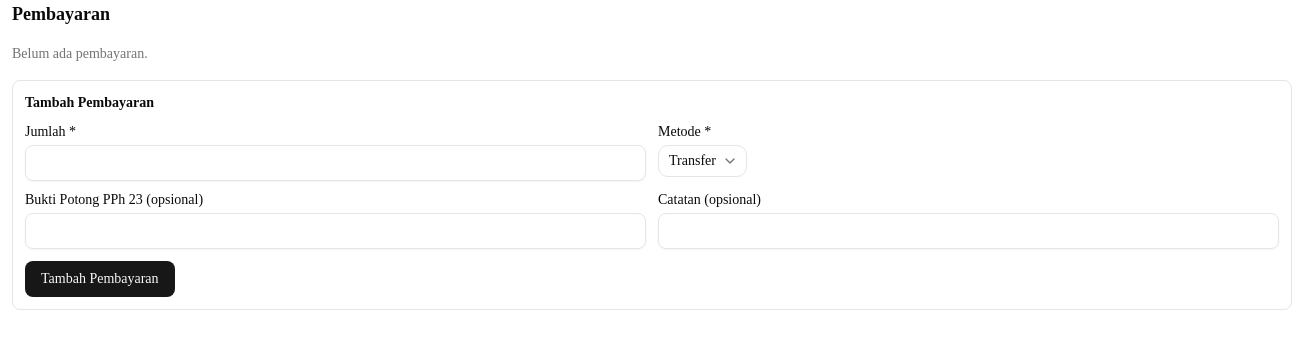
Test: PaymentsSection › rejects a non-positive amount
Type "-100" into the number field labelled "Jumlah *" at (336, 163), box [25,145,646,181]
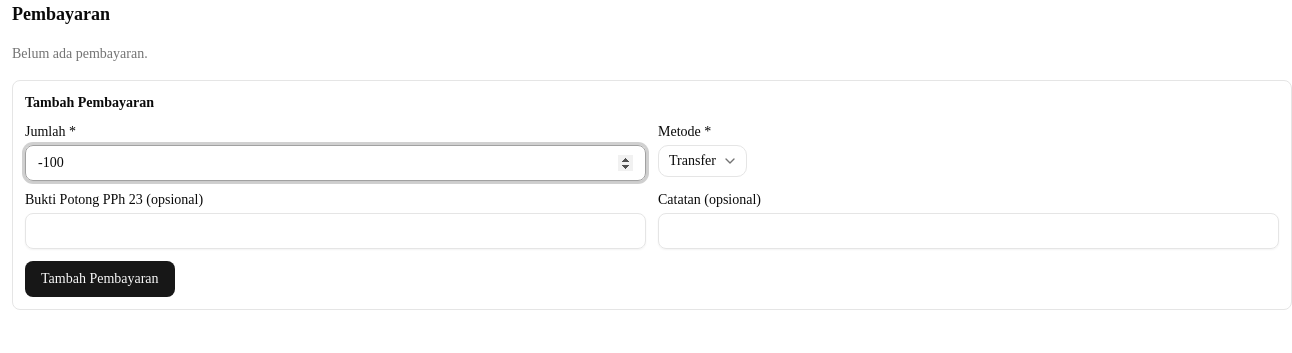
Click the button "Tambah Pembayaran" at (100, 279), box [25,261,175,297]
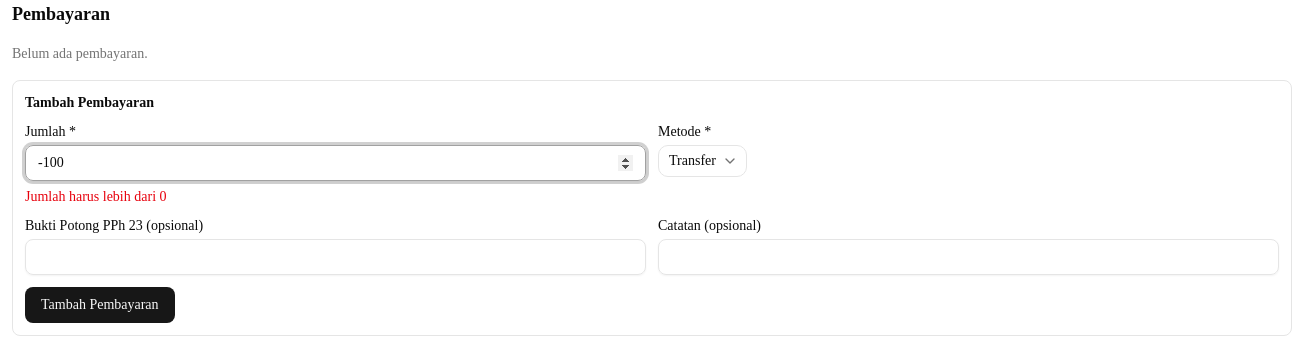
Check: the text "Jumlah harus lebih dari 0" is shown, box [25,189,166,204]
